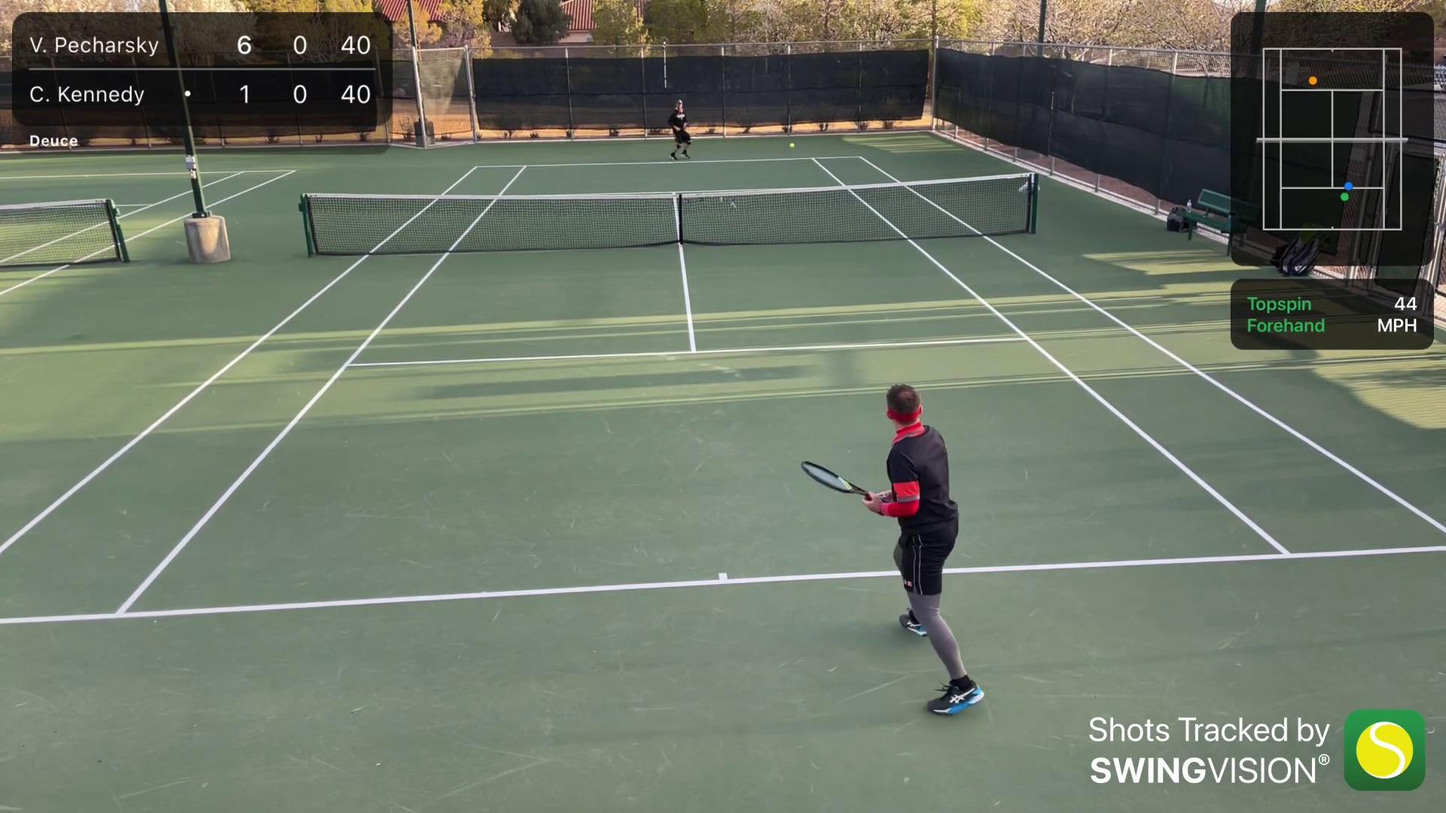ball: (788, 141, 795, 148)
